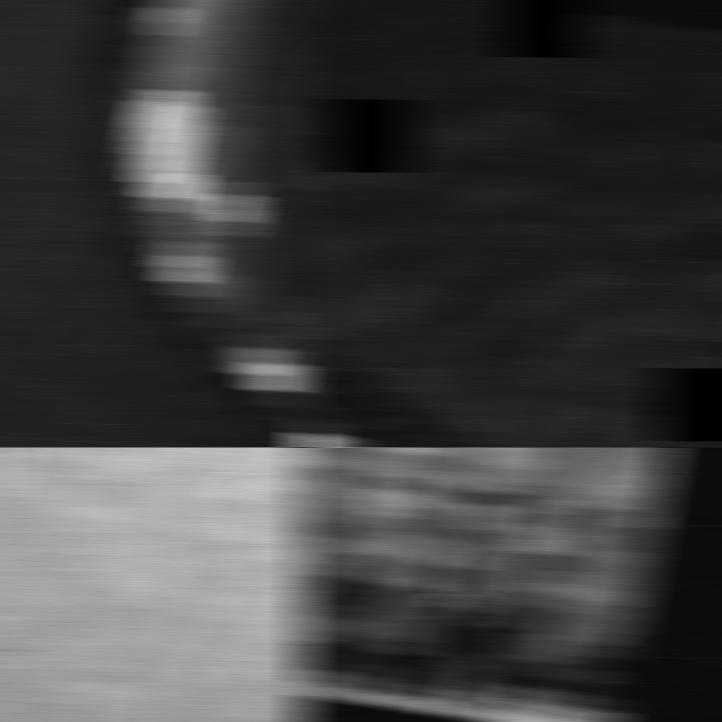Airbag: (294, 0, 722, 447), (0, 0, 312, 447), (294, 447, 722, 722), (0, 447, 312, 722)
